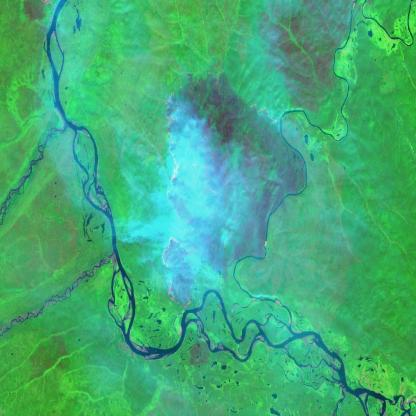fire: (150, 86, 215, 314)
